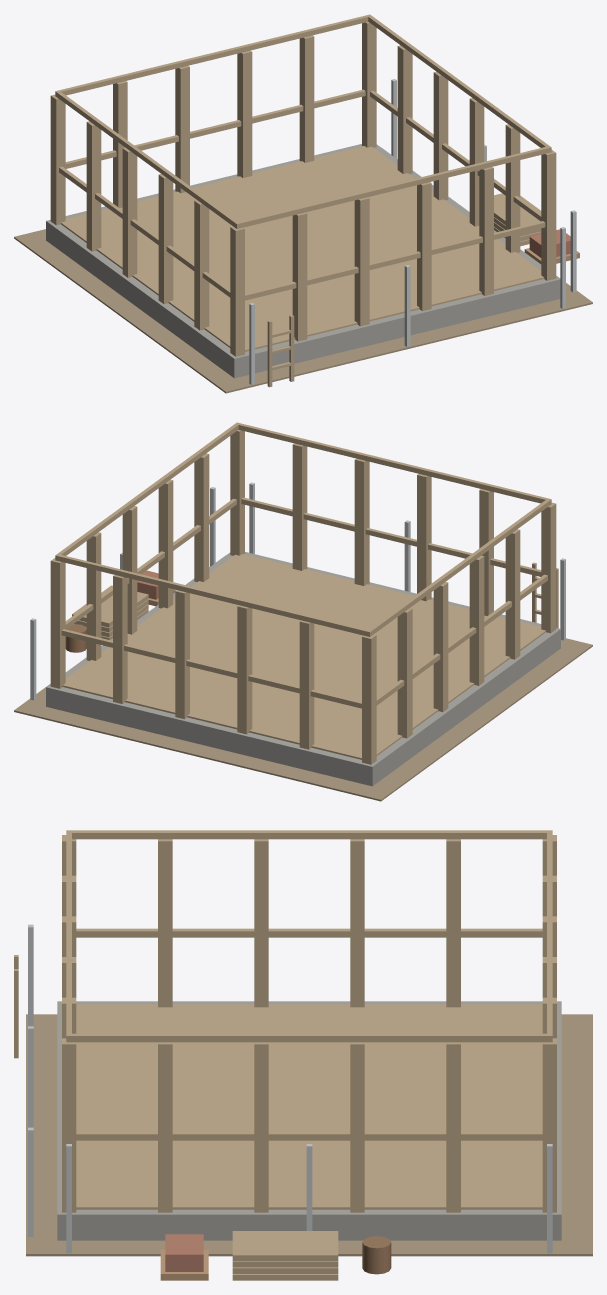
Rendered from barn_site_4.glb.
3 views of the same model, one above another, from view 1: azimuth 30°, elevation 25°; view 2: azimuth 150°, elevation 25°; view 3: azimuth 270°, elevation 25° (orthographic). The views are drawn at different scales.
Visible parts, largest first — view 1: body; view 2: body; view 3: body.
Boxes of the visible parts, x1,y1,x2,y2 form: body: (14,14,592,393); body: (14,422,592,801); body: (14,830,592,1280).
Bounding box in the file's own units: 2.6 × 0.933 × 2.41.
